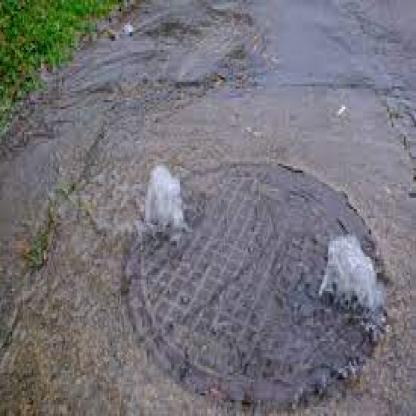drainage overflow-repair-: (38, 90, 410, 393)
